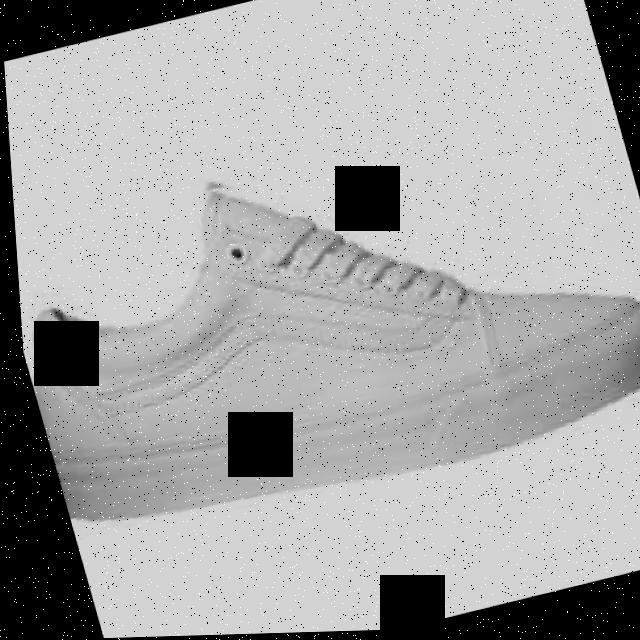shoe: (5, 84, 640, 559)
